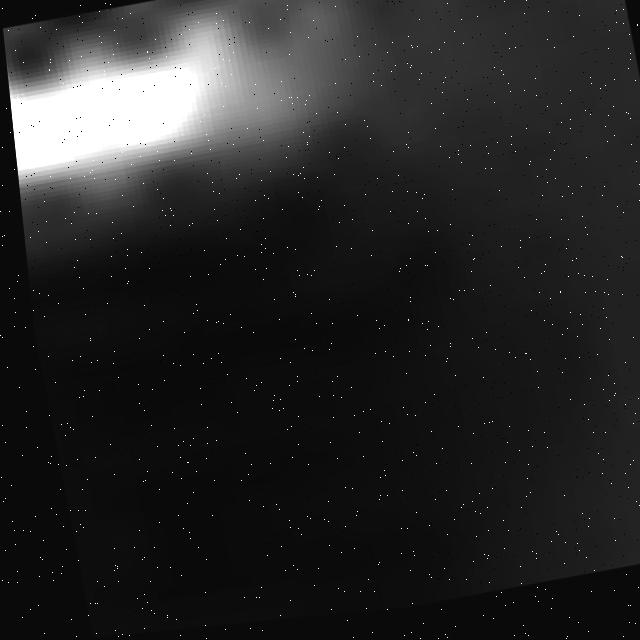person: (1, 1, 426, 247)
